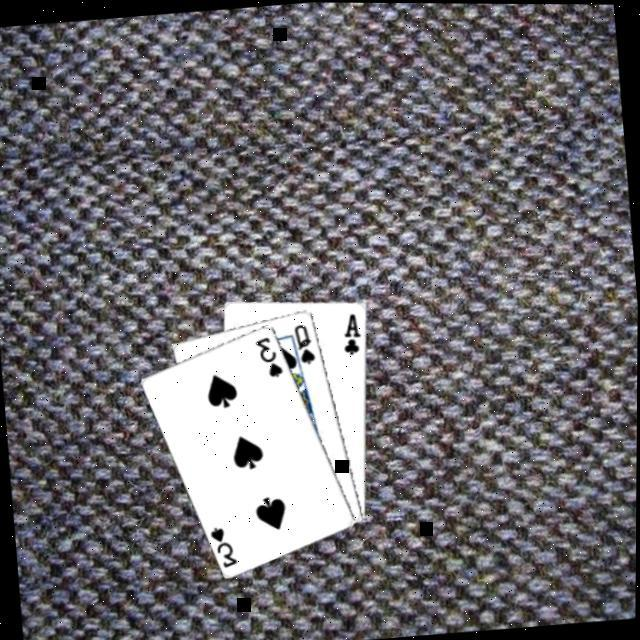3S: (208, 523, 243, 573), (253, 334, 287, 382)
AC: (339, 310, 366, 358)
QS: (292, 321, 320, 369)
